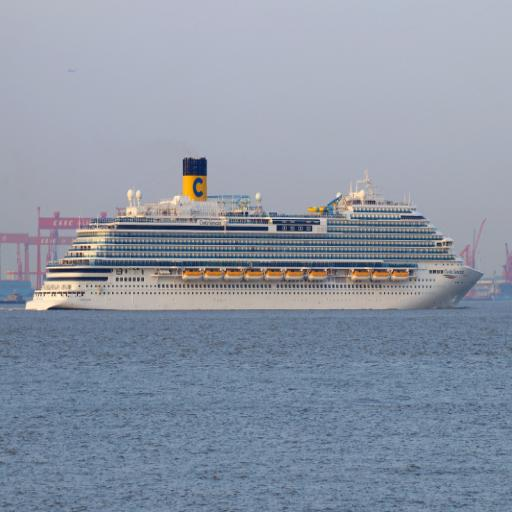cruises: (21, 153, 487, 320)
